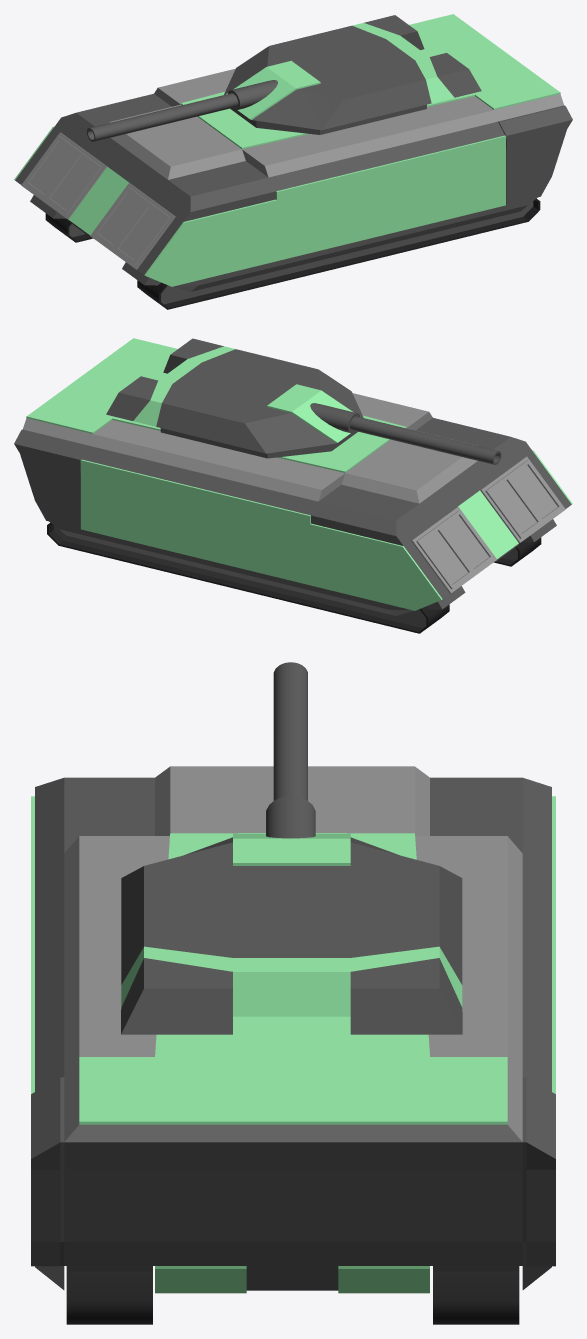
The model's file is LightTank.FBX.
3 views of the same model, one above another, from view 1: azimuth 30°, elevation 25°; view 2: azimuth 150°, elevation 25°; view 3: azimuth 270°, elevation 25° (orthographic). The views are drawn at different scales.
Visible parts, largest first — view 1: Box057, Box060, Box059, Box058; view 2: Box057, Box060, Box058, Box059; view 3: Box057, Box060, Box058, Box059.
Part boxes in pixels (x1,y1,x2,y2): Box057: (14, 14, 572, 291); Box060: (87, 15, 481, 141); Box059: (137, 198, 540, 309); Box058: (45, 213, 92, 242); Box057: (14, 338, 572, 615); Box060: (106, 338, 501, 464); Box058: (47, 522, 449, 633); Box059: (494, 537, 541, 566); Box057: (31, 766, 555, 1293); Box060: (121, 662, 462, 1034); Box058: (433, 1266, 519, 1324); Box059: (66, 1266, 152, 1324).
Bounding box in the file's own units: 181 × 60.49 × 96.17.
